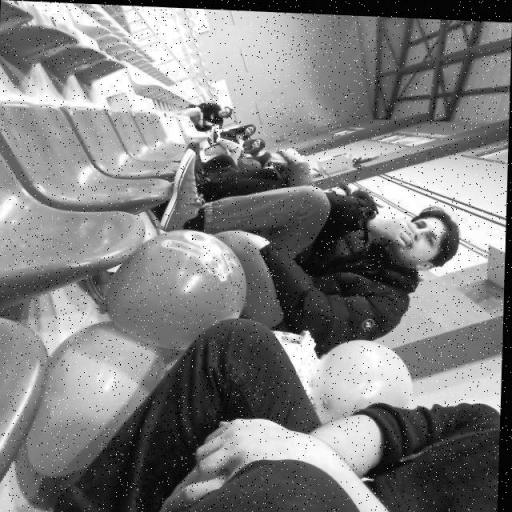balloon: (27, 322, 167, 486), (100, 226, 253, 354), (310, 335, 416, 436)
